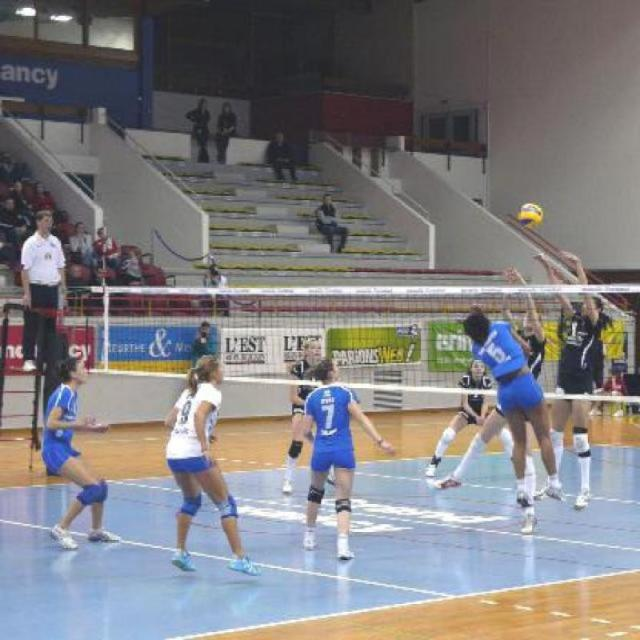volleyball: (516, 200, 542, 227), (516, 202, 542, 228)
